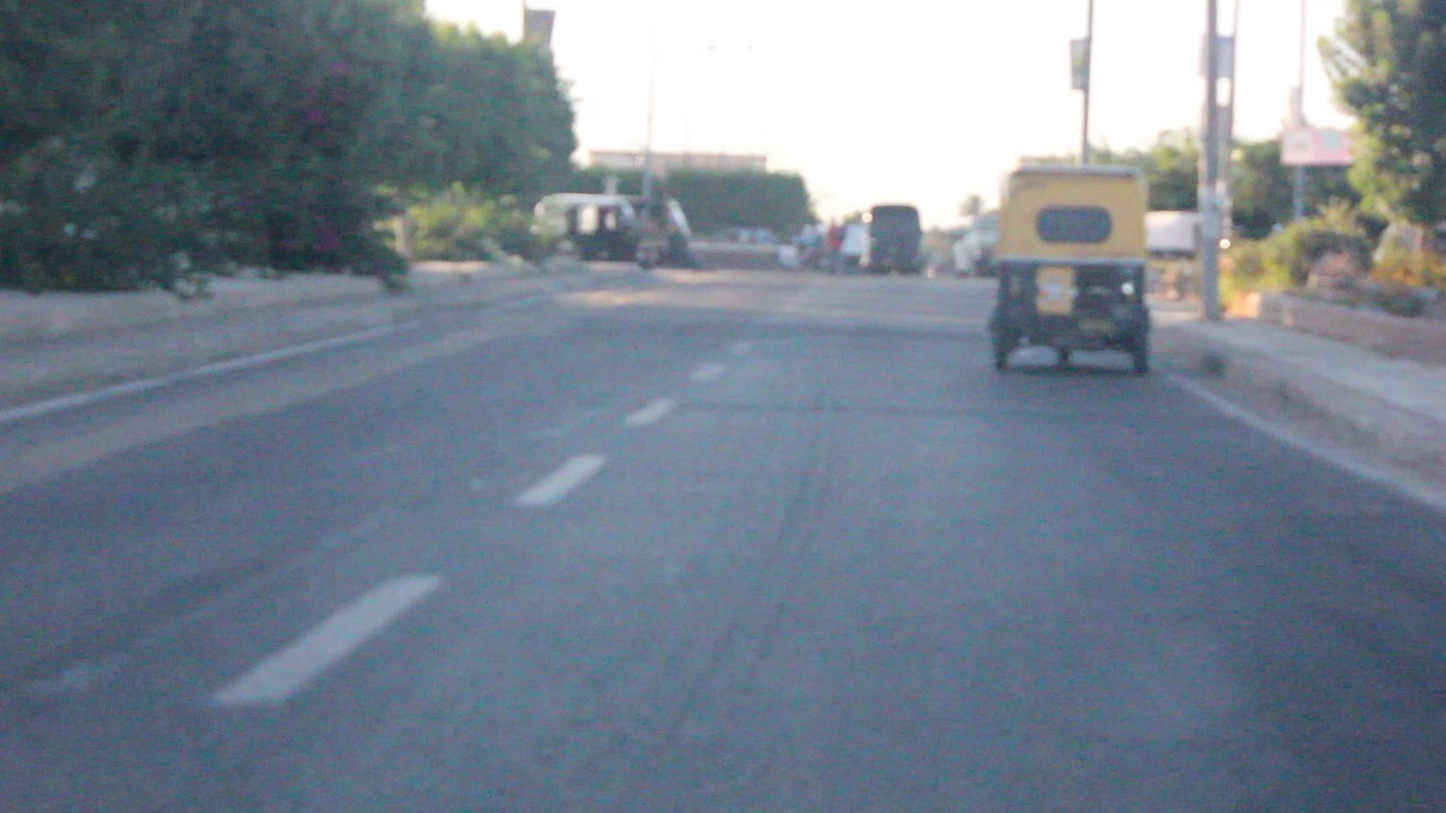Bump: (591, 309, 987, 348)
